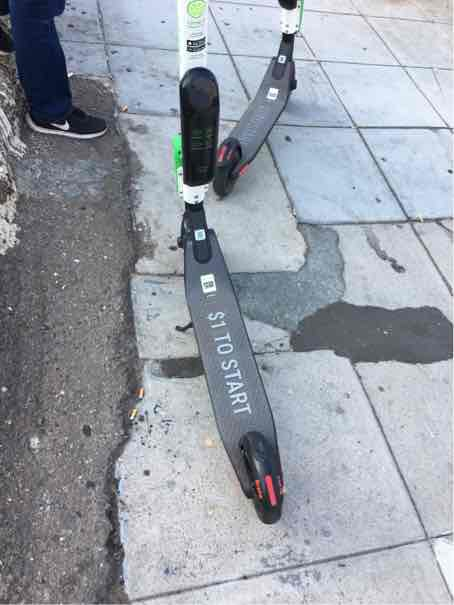scooter: (157, 7, 300, 532), (212, 6, 310, 205)
